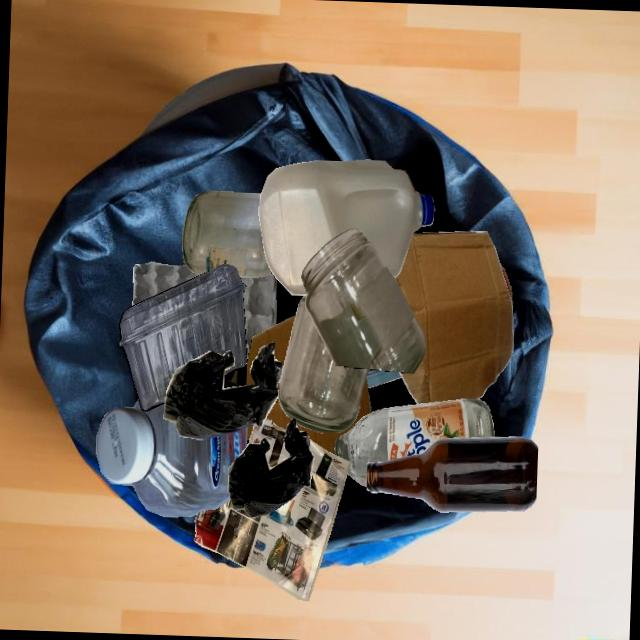cardboard: (394, 231, 513, 404), (246, 314, 295, 385), (239, 273, 276, 363), (131, 261, 200, 306), (224, 363, 246, 385)
glass: (300, 227, 425, 373), (333, 398, 494, 486), (366, 436, 538, 512), (278, 295, 367, 432), (181, 190, 271, 277)
paper: (193, 439, 350, 601), (366, 368, 401, 388)
plastic: (258, 159, 434, 295), (118, 263, 247, 411), (95, 399, 247, 516), (163, 342, 282, 439), (227, 418, 313, 518), (499, 263, 512, 309)
